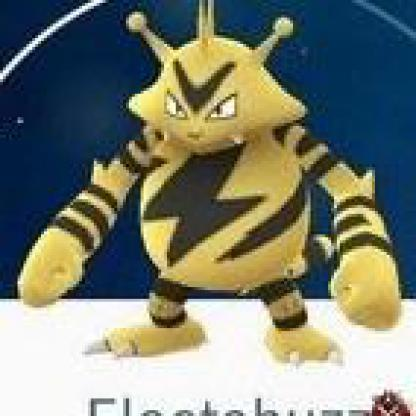Electabuzz: (1, 1, 414, 414)
